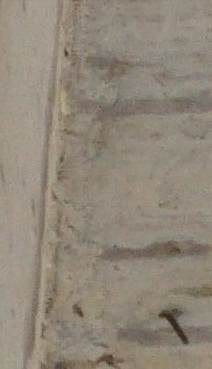Exposed reinforcement: (159, 313, 190, 345)
